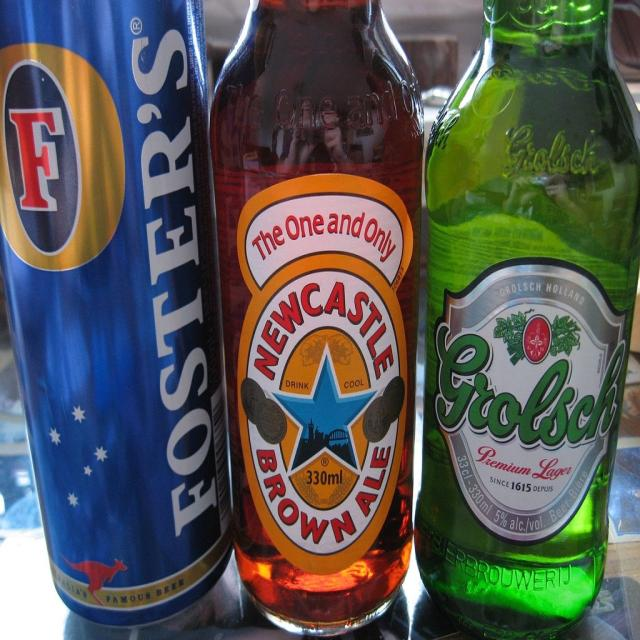fosters: (2, 39, 131, 275)
